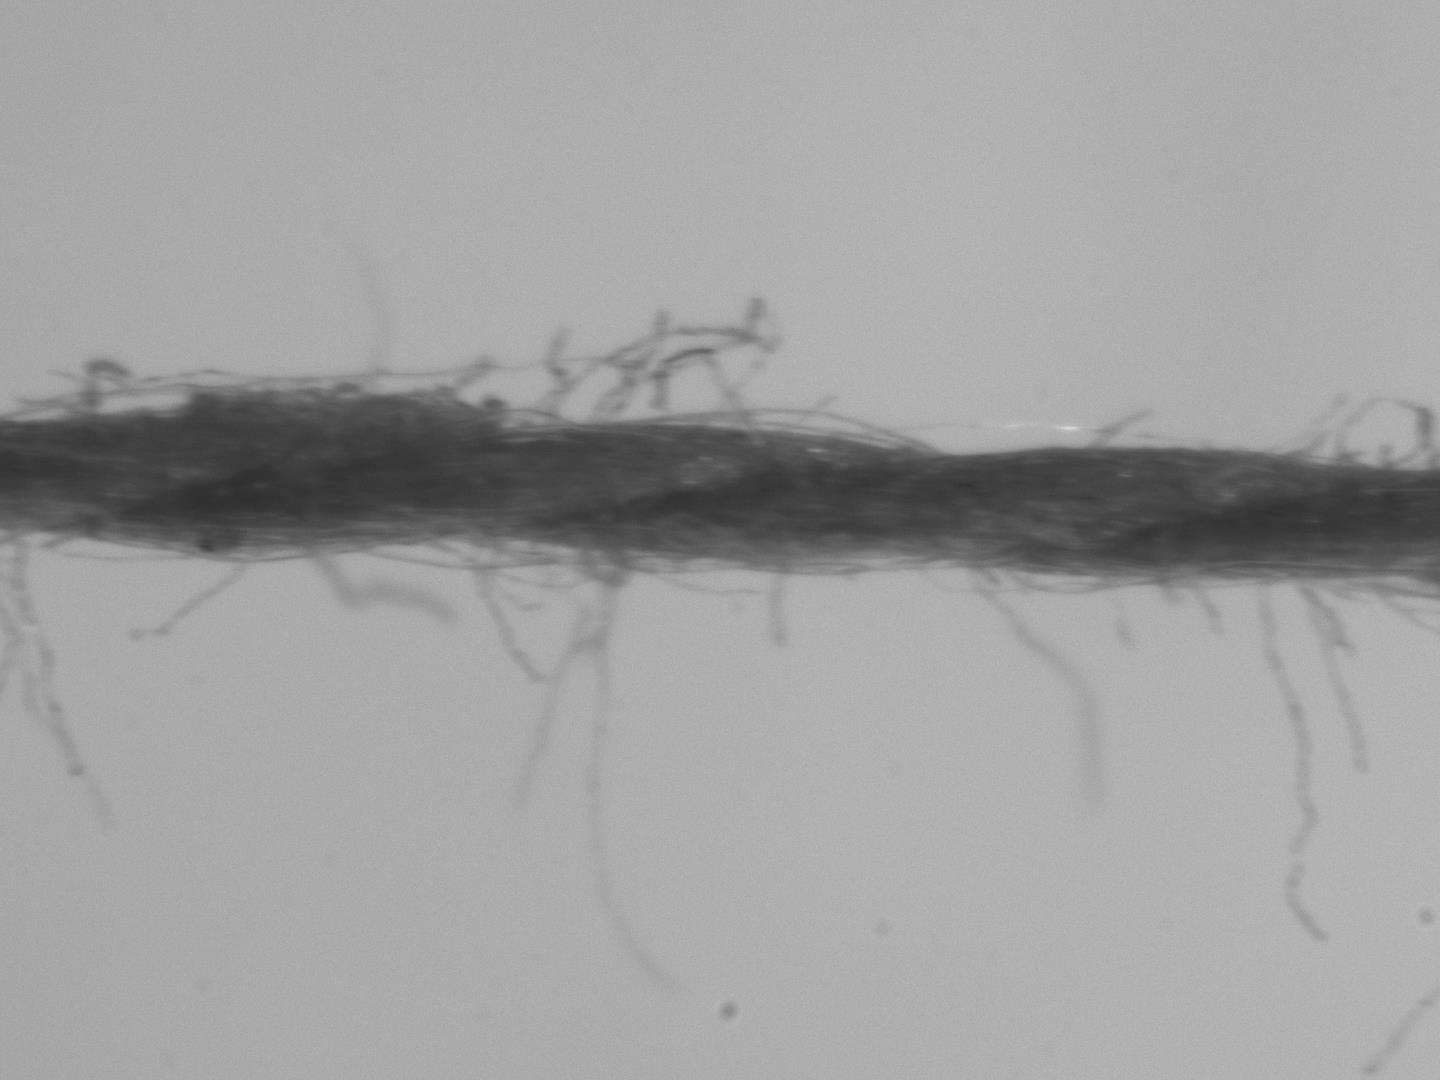loop_fiber: (804, 416, 1256, 465)
protruding_fiber: (959, 557, 1109, 807), (1248, 577, 1341, 945), (120, 546, 274, 648)
